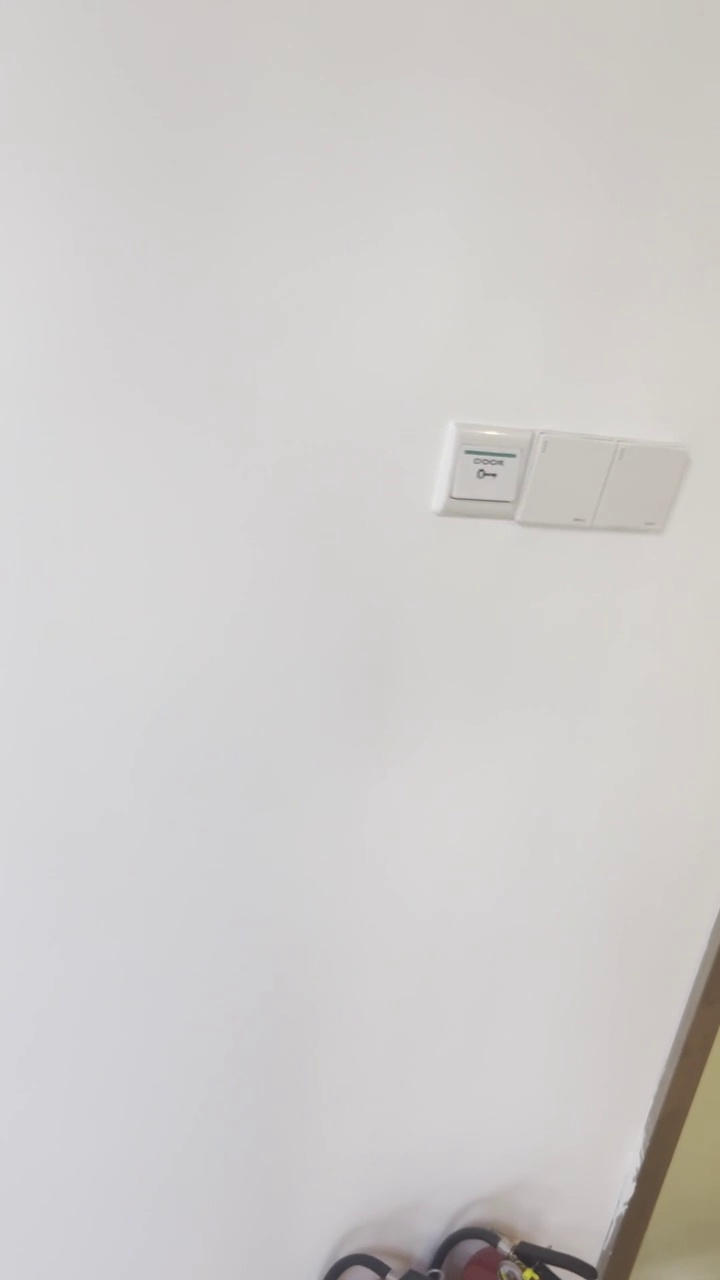button: (512, 429, 618, 532), (588, 437, 689, 534)
